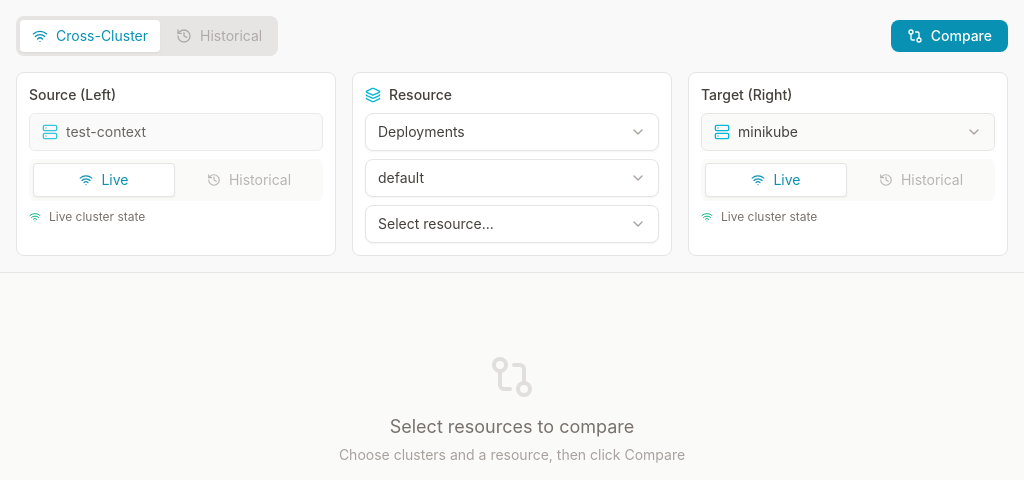
Scenario: ClusterDiff › resource name selection › should show "No resources found" when list is empty
Step 1. Click the button "Select resource..." → [436, 224], box [365,205,659,243]
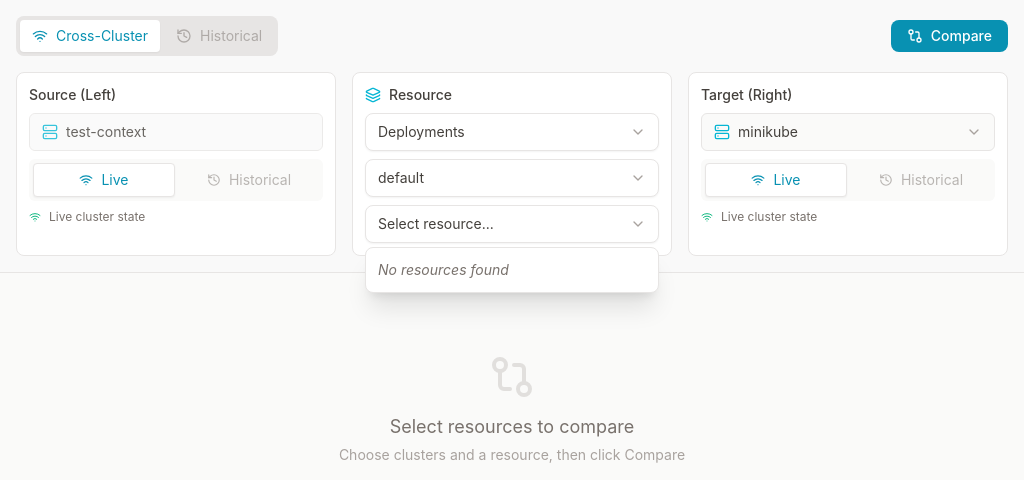
Expected: the text "No resources found" is shown, [378,261,509,278]
